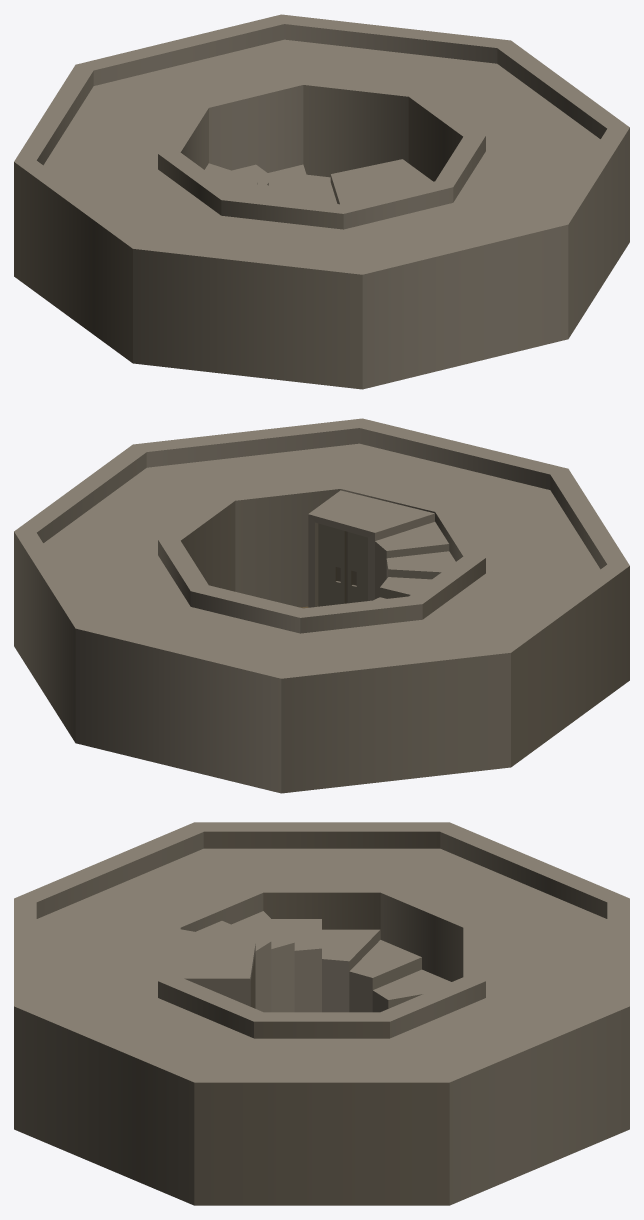
File: Ruins_Entrance.gltf
3 views of the same model, one above another, from view 1: azimuth 30°, elevation 25°; view 2: azimuth 150°, elevation 25°; view 3: azimuth 270°, elevation 25° (orthographic). The views are drawn at different scales.
Parts seen in each view (by area): view 1: SF_Bld_Ruins_Entrance_01; view 2: SF_Bld_Ruins_Entrance_01; view 3: SF_Bld_Ruins_Entrance_01.
Boxes of the visible parts, left/top/right/bottom form: SF_Bld_Ruins_Entrance_01: left=14, top=14, right=629, bottom=389; SF_Bld_Ruins_Entrance_01: left=14, top=418, right=629, bottom=793; SF_Bld_Ruins_Entrance_01: left=14, top=822, right=629, bottom=1205.
Size of the model in its own units: 0.1346 by 0.0297 by 0.1346.
1 material, 1 textured.
